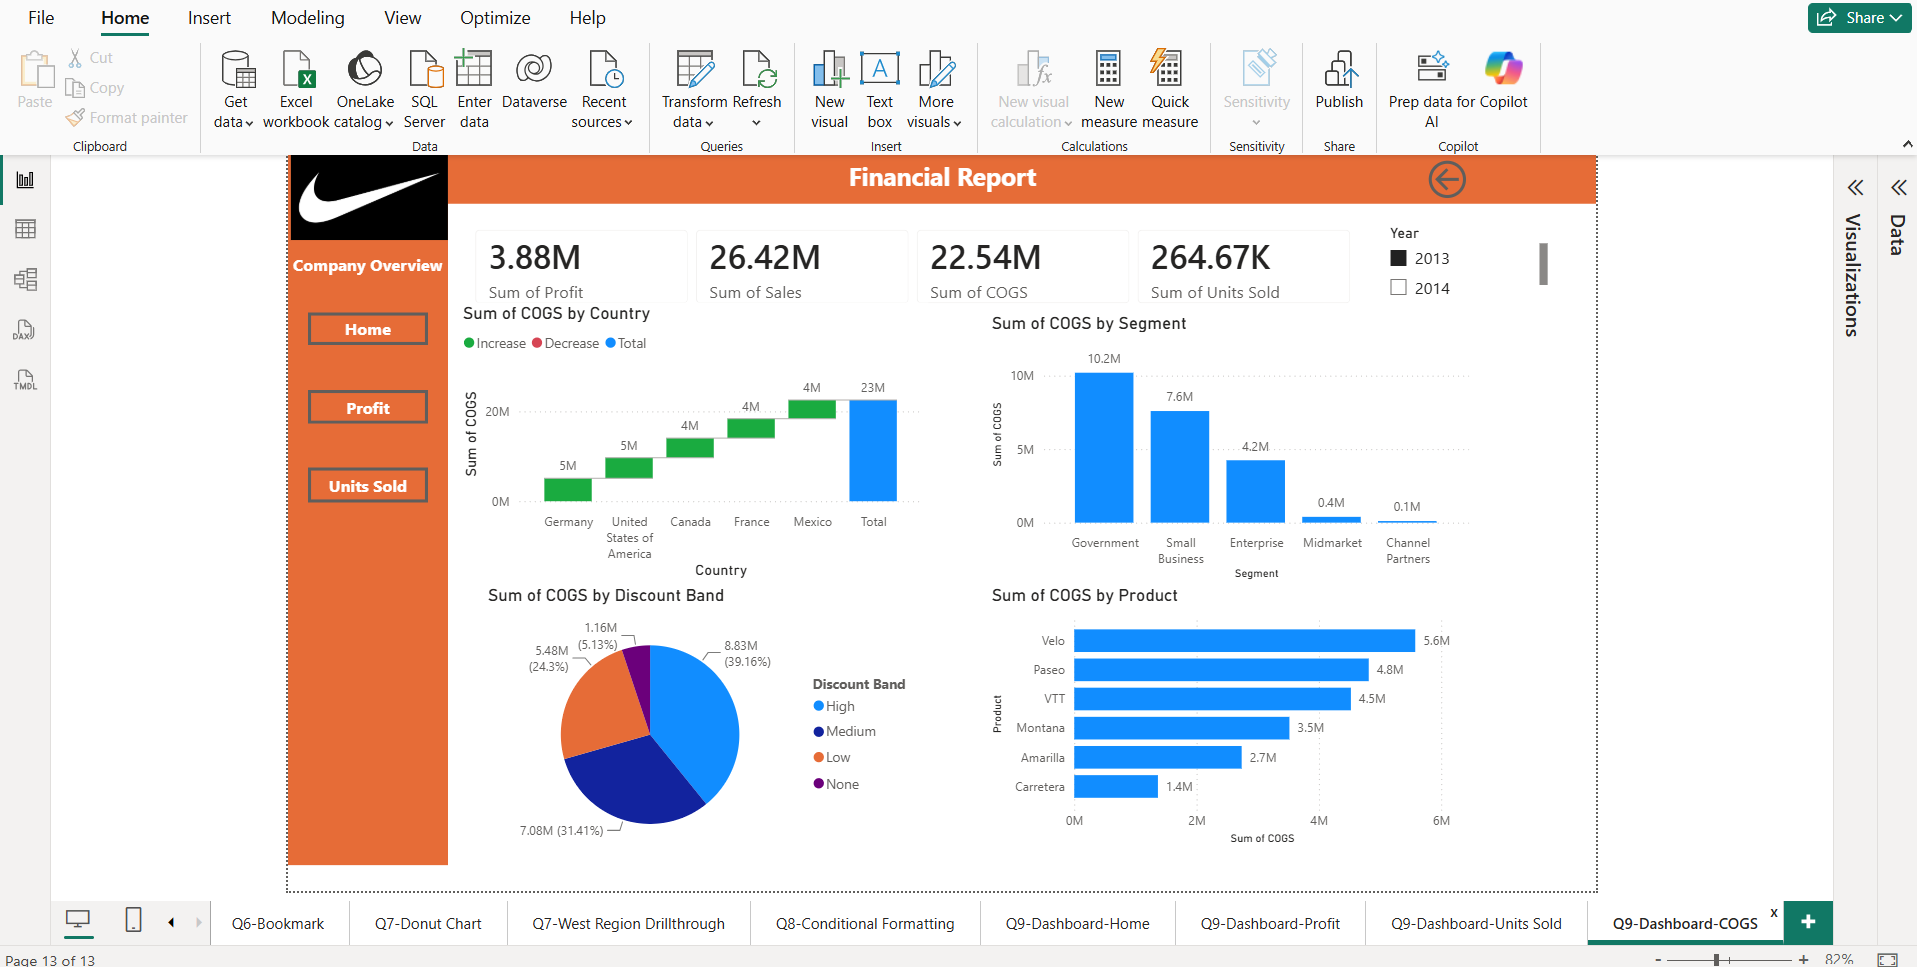

The page's visual inventory and layout, read from the dashboard file:
{"tool":"powerbi","page":{"name":"Q9-Dashboard-COGS","canvas":[1280,720],"ordinal":12},"visuals":[{"type":"textbox","box":[0,0,1280.3,47.7],"z":0},{"type":"textbox","box":[0,37.9,156.5,656.7],"z":1000},{"type":"textbox","box":[156.5,47.7,1123.8,660.3],"z":2000},{"type":"actionButton","box":[19.6,154.1,117.4,31.8],"z":3000},{"type":"actionButton","box":[19.6,229.9,117.4,33],"z":4000},{"type":"actionButton","box":[19.6,305.7,117.4,34.2],"z":5000},{"type":"cardVisual","fields":{"Data":["Sum(financials.Profit)","Sum(financials. Sales)","Sum(financials.COGS)","Sum(financials.Units Sold)"]},"box":[166.3,56.3,890.2,106.4],"z":6000},{"type":"slicer","fields":{"Values":["financials.Date.Variation.Date Hierarchy.Year"]},"box":[1065.1,62.4,172.4,81.9],"z":7000},{"type":"clusteredBarChart","fields":{"Category":["financials.Product"],"Y":["Sum(financials.COGS)"]},"box":[683.6,420.7,468.3,259.2],"z":8000},{"type":"clusteredColumnChart","fields":{"Y":["Sum(financials.COGS)"],"Category":["financials.Segment"]},"box":[683.6,154.1,476.9,266.6],"z":9000},{"type":"waterfallChart","fields":{"Category":["financials.Country"],"Y":["Sum(financials.COGS)"]},"box":[166.3,144.3,459.8,275.1],"z":10000},{"type":"pieChart","fields":{"Category":["financials.Discount Band"],"Y":["Sum(financials.COGS)"]},"box":[190.8,420.7,435.3,273.9],"z":11000},{"type":"actionButton","box":[1110.3,0,100.3,47.7],"z":12000},{"type":"image","box":[1.2,0,156.5,83.2],"z":13000}]}

Visuals, with their boxes on the page's 1280x720 design canvas (x1, y1, x2, y2). These are canvas units, not pixel positions in the 1917x967 screenshot, which may show the page scaled, cropped or inside an application window:
textbox: (x1=0, y1=0, x2=1280, y2=48)
textbox: (x1=0, y1=38, x2=156, y2=695)
textbox: (x1=156, y1=48, x2=1280, y2=708)
actionButton: (x1=20, y1=154, x2=137, y2=186)
actionButton: (x1=20, y1=230, x2=137, y2=263)
actionButton: (x1=20, y1=306, x2=137, y2=340)
cardVisual - Sum(financials.Profit) x Sum(financials. Sales): (x1=166, y1=56, x2=1056, y2=163)
slicer - financials.Date.Variation.Date Hierarchy.Year: (x1=1065, y1=62, x2=1238, y2=144)
clusteredBarChart - financials.Product x Sum(financials.COGS): (x1=684, y1=421, x2=1152, y2=680)
clusteredColumnChart - Sum(financials.COGS) x financials.Segment: (x1=684, y1=154, x2=1160, y2=421)
waterfallChart - financials.Country x Sum(financials.COGS): (x1=166, y1=144, x2=626, y2=419)
pieChart - financials.Discount Band x Sum(financials.COGS): (x1=191, y1=421, x2=626, y2=695)
actionButton: (x1=1110, y1=0, x2=1211, y2=48)
image: (x1=1, y1=0, x2=158, y2=83)
